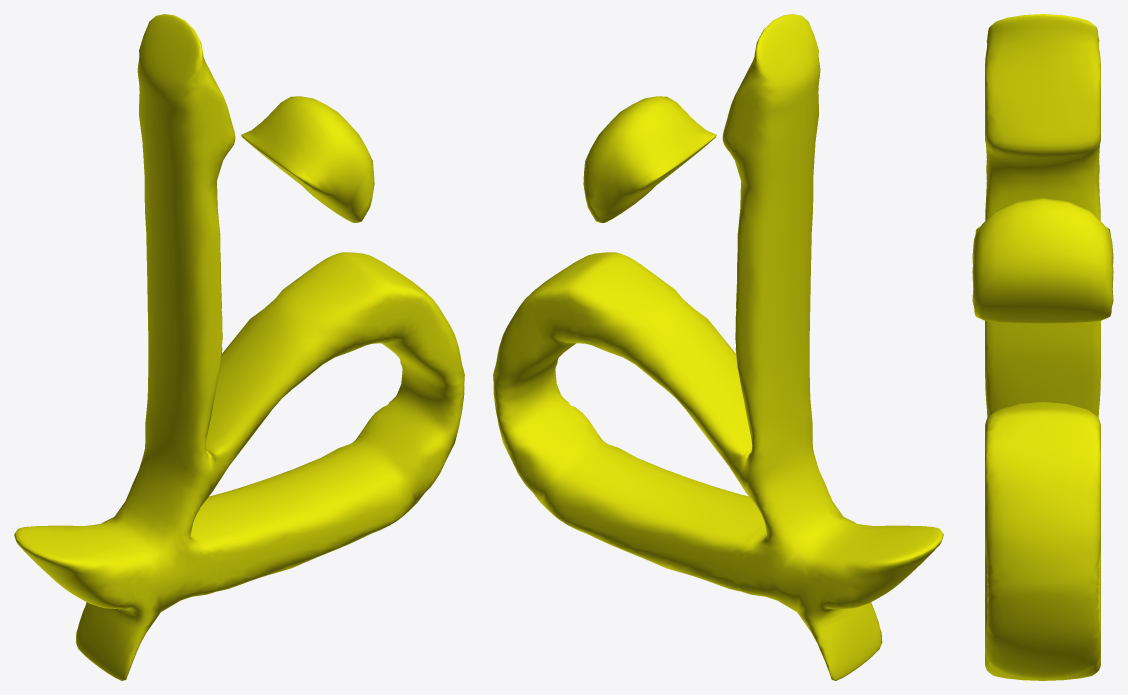
3 renders of one model, left to right at view 1: azimuth 30°, elevation 25°; view 2: azimuth 150°, elevation 25°; view 3: azimuth 270°, elevation 25°, orthographic. The views are drawn at different scales.
Parts seen in each view (by area): view 1: char_1; view 2: char_1; view 3: char_1.
Part boxes in pixels (box(x1,y1,x2,y2)): char_1: box(14, 14, 464, 680); char_1: box(493, 14, 943, 680); char_1: box(972, 14, 1113, 680).
Size of the model in its own units: 6.31 by 8.89 by 1.71.
